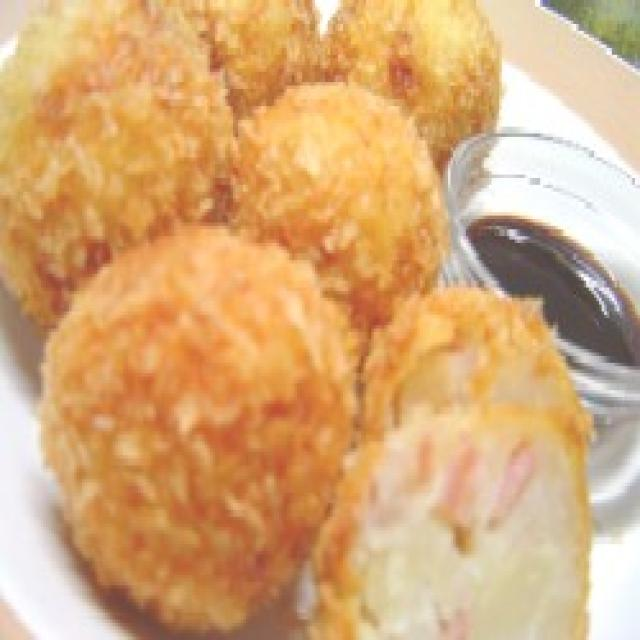炸货点心: (0, 0, 591, 640)
